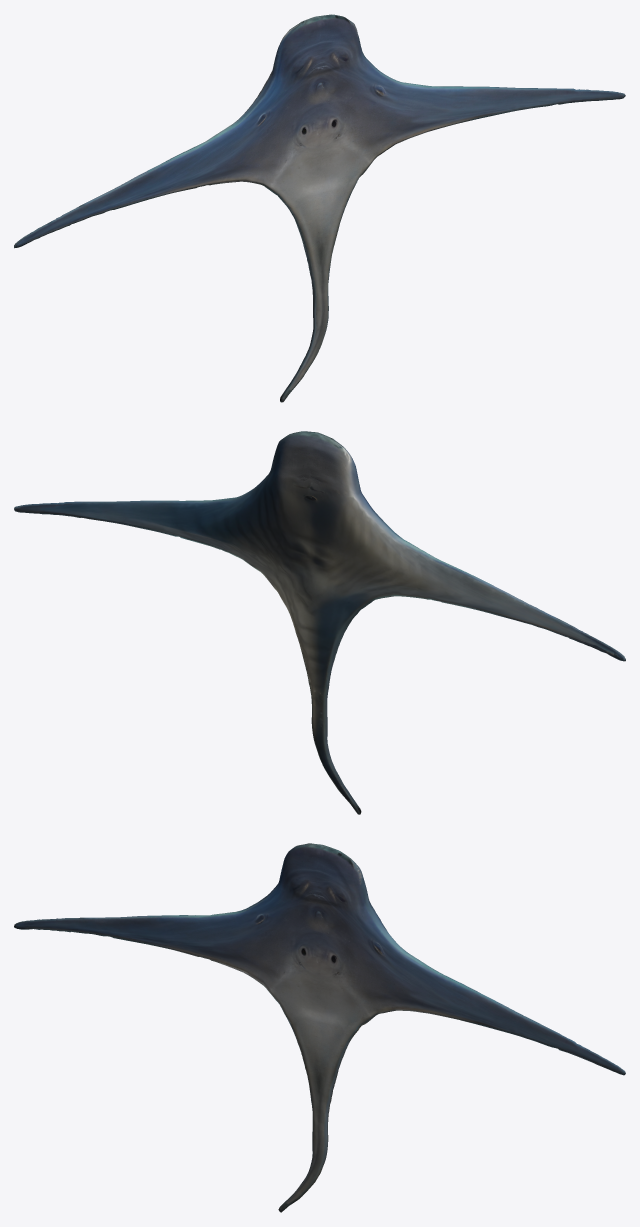
File: sting_ray_sea_creatur_0903043715_texture.fbx
3 renders of one model, top to bottom at view 1: azimuth 30°, elevation 25°; view 2: azimuth 150°, elevation 25°; view 3: azimuth 330°, elevation 25°, orthographic.
Visible parts, largest first — view 1: Mesh1.0; view 2: Mesh1.0; view 3: Mesh1.0.
Part boxes in pixels (x1,y1,x2,y2): Mesh1.0: (14,14,625,402); Mesh1.0: (14,431,625,814); Mesh1.0: (14,843,625,1212).
Bounding box in the file's own units: 200 × 117 × 6.49.
1 material, 1 textured.
